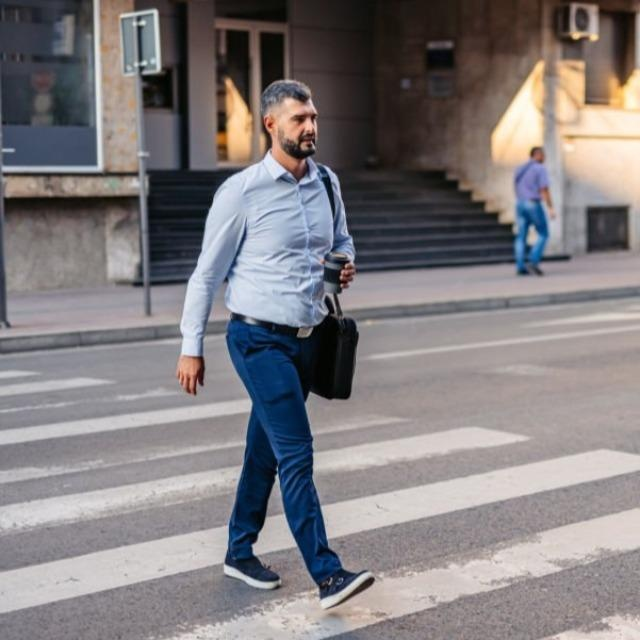Sin_Casco_Mascarrilla: (259, 79, 319, 161)
Sin_Chaleco: (222, 163, 343, 331)
